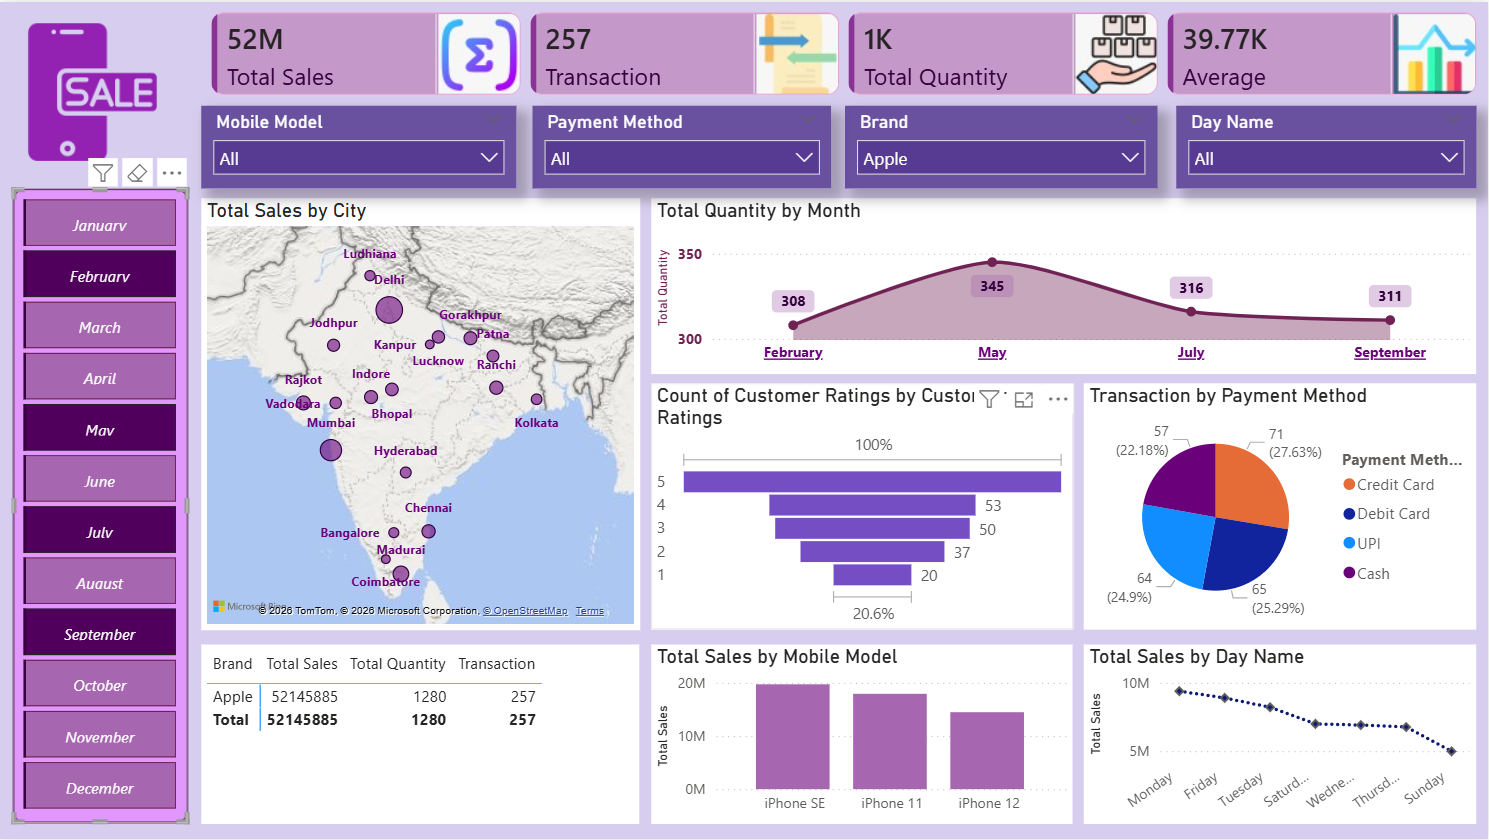

Layout of this report page (visuals, bound fields, positions):
{"tool":"powerbi","page":{"name":"Project Dashboard","canvas":[1280,720],"ordinal":0},"visuals":[{"type":"image","box":[10.5,18.6,137.2,118.6],"z":0},{"type":"advancedSlicerVisual","title":"MONTH","fields":{"Values":["Sheet1.date.Variation.Date Hierarchy.Month"]},"box":[10.5,160.5,151.2,546.5],"z":1000},{"type":"cardVisual","fields":{"Data":["Mobile_sales_data.Total Sales","Mobile_sales_data.Transaction","Mobile_sales_data.Total Quantity","Mobile_sales_data.Average"]},"box":[173.3,0,1107,89.5],"z":2000},{"type":"map","fields":{"Category":["Mobile_sales_data.City"],"Size":["Mobile_sales_data.Total Sales"]},"box":[173.3,168.6,376.7,370.9],"z":3000},{"type":"lineChart","fields":{"Y":["Mobile_sales_data.Total Quantity"],"Category":["Mobile_sales_data.date.Variation.Date Hierarchy.Month"]},"box":[560.5,168.6,709.3,151.2],"z":4000},{"type":"funnel","fields":{"Category":["Mobile_sales_data.Customer Ratings"],"Y":["CountNonNull(Mobile_sales_data.Customer Ratings)"]},"box":[560.5,327.9,362.8,211.6],"z":5000},{"type":"pieChart","fields":{"Category":["Mobile_sales_data.Payment Method"],"Y":["Mobile_sales_data.Transaction"]},"box":[932.6,327.9,337.2,211.6],"z":6000},{"type":"pivotTable","fields":{"Rows":["Mobile_sales_data.Brand"],"Values":["Mobile_sales_data.Total Sales","Mobile_sales_data.Total Quantity","Mobile_sales_data.Transaction"]},"box":[173.3,552.3,376.7,154.7],"z":7000},{"type":"columnChart","fields":{"Category":["Mobile_sales_data.Mobile Model"],"Y":["Mobile_sales_data.Total Sales"]},"box":[560.5,552.3,362.8,154.7],"z":8000},{"type":"lineChart","fields":{"Category":["Mobile_sales_data.Day Name"],"Y":["Mobile_sales_data.Total Sales"]},"box":[932.6,552.3,337.2,154.7],"z":9000},{"type":"slicer","fields":{"Values":["Mobile_sales_data.Mobile Model"]},"box":[173.3,89.5,270.9,70.9],"z":10000},{"type":"slicer","fields":{"Values":["Mobile_sales_data.Payment Method"]},"box":[458.1,89.5,257,70.9],"z":11000},{"type":"slicer","fields":{"Values":["Mobile_sales_data.Brand"]},"box":[726.7,89.5,268.6,70.9],"z":12000},{"type":"slicer","fields":{"Values":["Mobile_sales_data.Day Name"]},"box":[1011.6,89.5,258.1,70.9],"z":13000}]}

Visuals, with their boxes in screenshot pixels (x1, y1, x2, y2), scaled from the page's 1280x720 canvas onto the 1489x840 screenshot:
image: {"left": 12, "top": 22, "right": 172, "bottom": 160}
"MONTH" advancedSlicerVisual: {"left": 12, "top": 187, "right": 188, "bottom": 825}
cardVisual - Mobile_sales_data.Total Sales x Mobile_sales_data.Transaction: {"left": 202, "top": 0, "right": 1488, "bottom": 104}
map - Mobile_sales_data.City x Mobile_sales_data.Total Sales: {"left": 202, "top": 197, "right": 640, "bottom": 629}
lineChart - Mobile_sales_data.Total Quantity x Mobile_sales_data.date.Variation.Date Hierarchy.Month: {"left": 652, "top": 197, "right": 1477, "bottom": 373}
funnel - Mobile_sales_data.Customer Ratings x CountNonNull(Mobile_sales_data.Customer Ratings): {"left": 652, "top": 383, "right": 1074, "bottom": 629}
pieChart - Mobile_sales_data.Payment Method x Mobile_sales_data.Transaction: {"left": 1085, "top": 383, "right": 1477, "bottom": 629}
pivotTable - Mobile_sales_data.Brand x Mobile_sales_data.Total Sales: {"left": 202, "top": 644, "right": 640, "bottom": 825}
columnChart - Mobile_sales_data.Mobile Model x Mobile_sales_data.Total Sales: {"left": 652, "top": 644, "right": 1074, "bottom": 825}
lineChart - Mobile_sales_data.Day Name x Mobile_sales_data.Total Sales: {"left": 1085, "top": 644, "right": 1477, "bottom": 825}
slicer - Mobile_sales_data.Mobile Model: {"left": 202, "top": 104, "right": 517, "bottom": 187}
slicer - Mobile_sales_data.Payment Method: {"left": 533, "top": 104, "right": 832, "bottom": 187}
slicer - Mobile_sales_data.Brand: {"left": 845, "top": 104, "right": 1158, "bottom": 187}
slicer - Mobile_sales_data.Day Name: {"left": 1177, "top": 104, "right": 1477, "bottom": 187}
